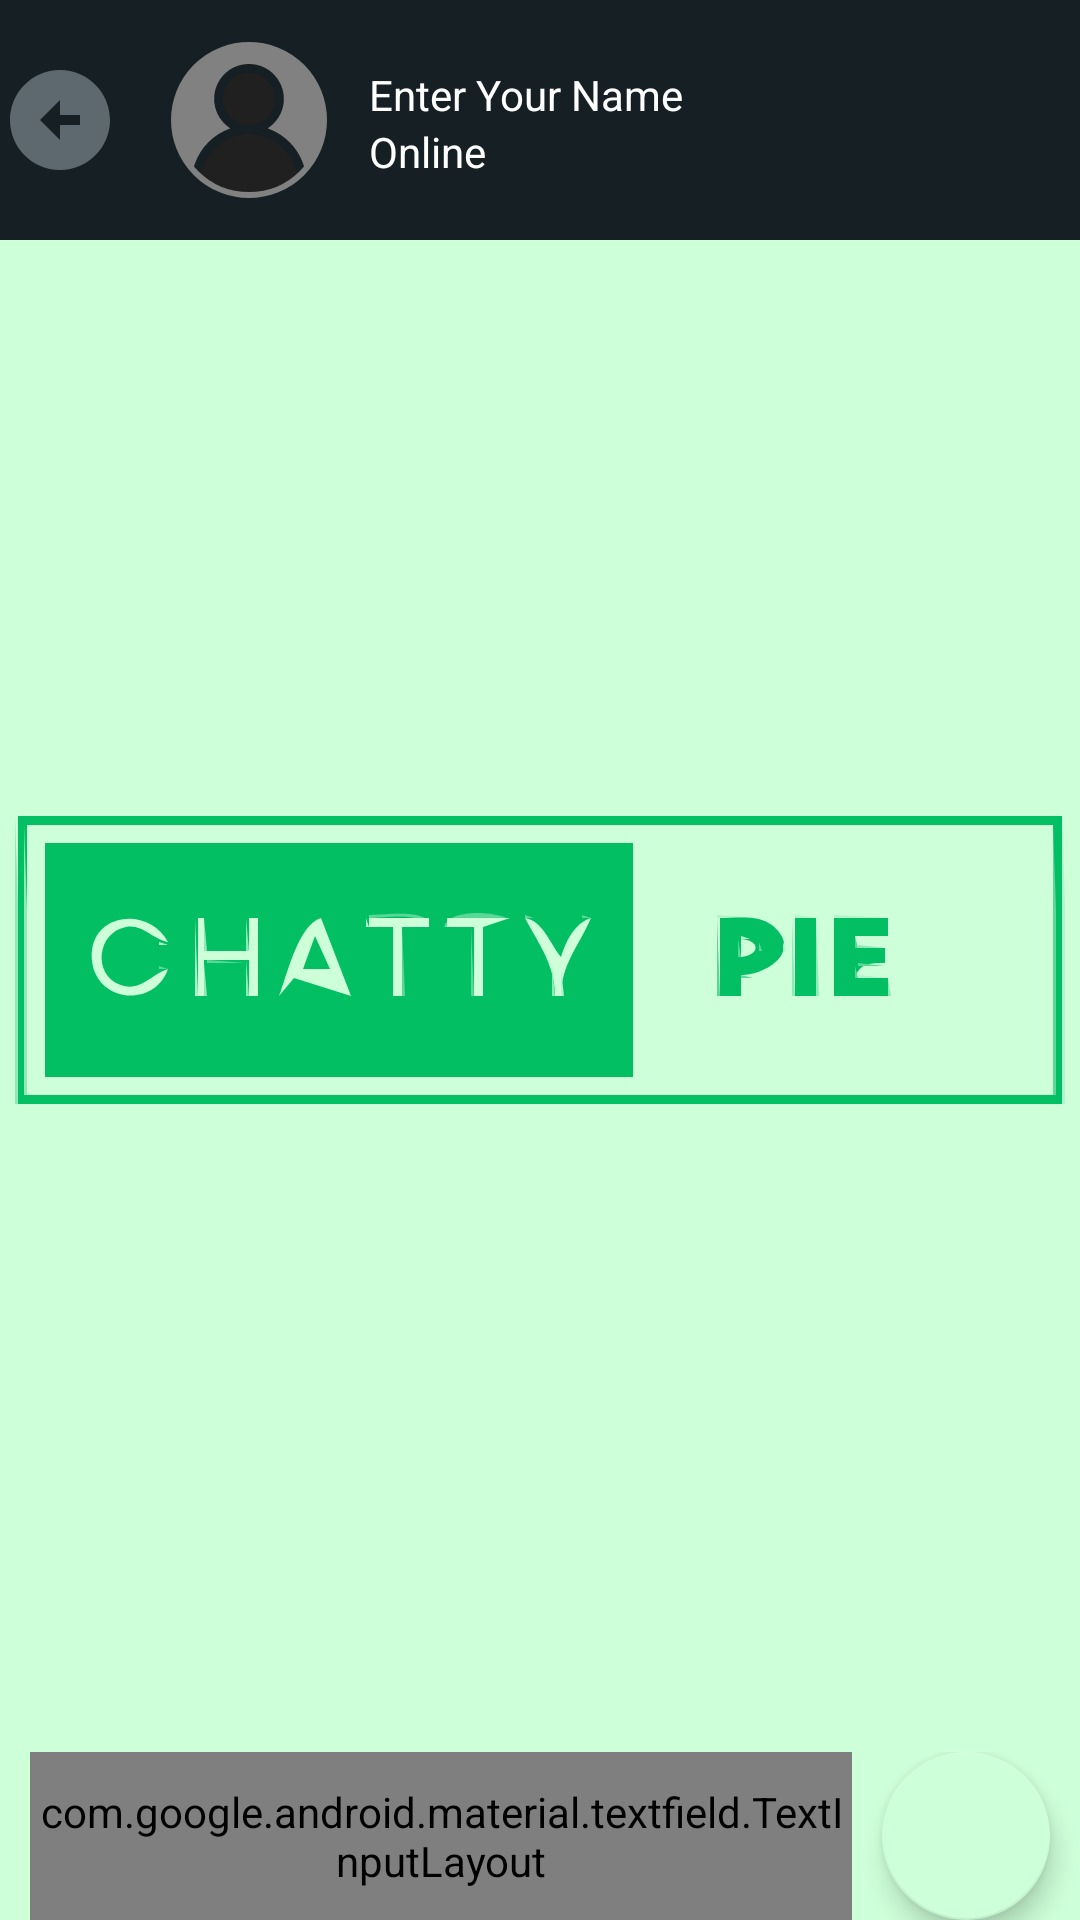

Where to tap for icons on this 1080 × 1920 app screen, as (x=x, y=y):
back button: (x=60, y=120)
no profile: (x=249, y=120)
